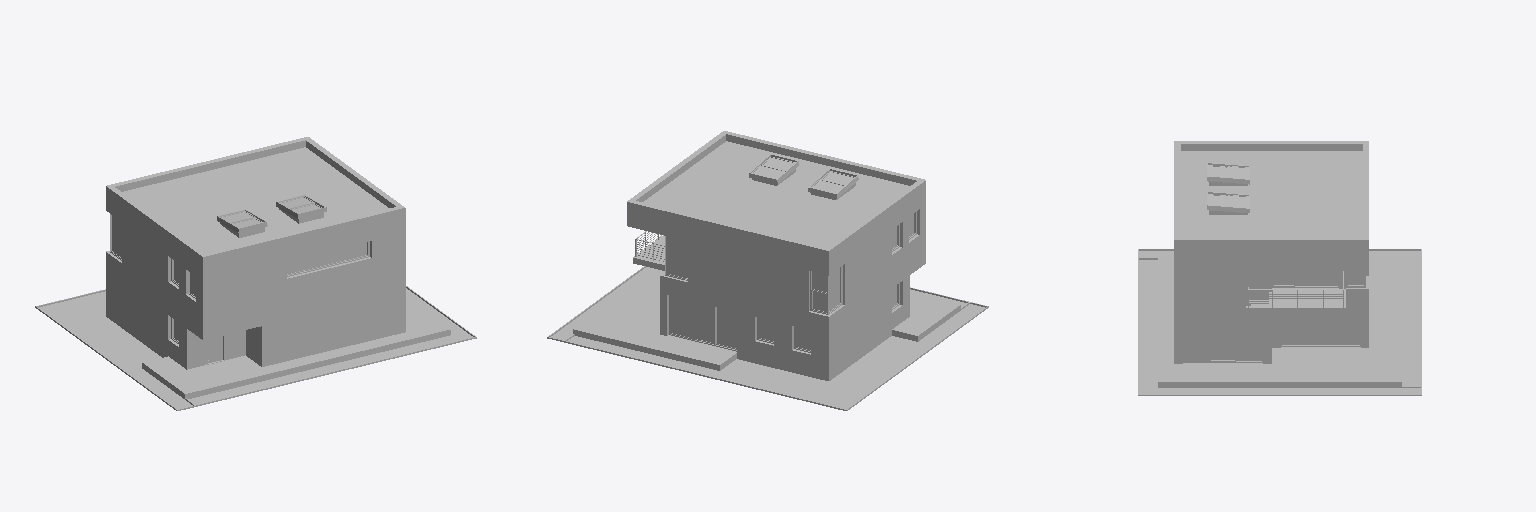
The model's file is residential_concrete_1.obj.
The picture shows the model from 3 angles: view 1: azimuth 30°, elevation 25°; view 2: azimuth 150°, elevation 25°; view 3: azimuth 270°, elevation 25°; orthographic projection.
Parts seen in each view (by area): view 1: Modern_House_1_obj; view 2: Modern_House_1_obj; view 3: Modern_House_1_obj.
Part boxes in pixels (bbox=[...]): Modern_House_1_obj: bbox=[35, 137, 476, 410]; Modern_House_1_obj: bbox=[547, 131, 988, 410]; Modern_House_1_obj: bbox=[1138, 141, 1421, 395].
Bounding box in the file's own units: 1 × 0.4288 × 0.82.